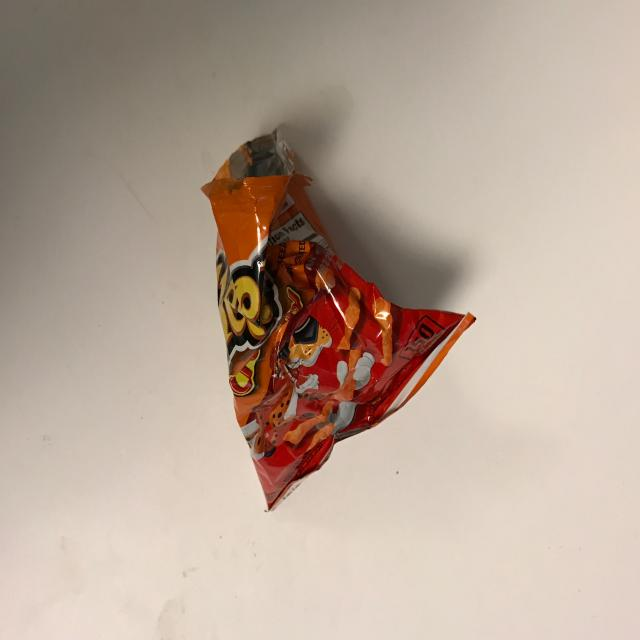trash: (201, 127, 476, 512)
